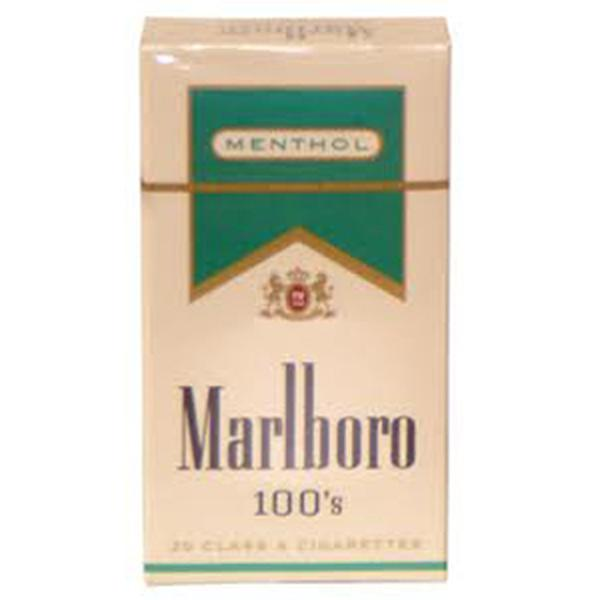marlboro_mentol: (140, 47, 447, 579)
